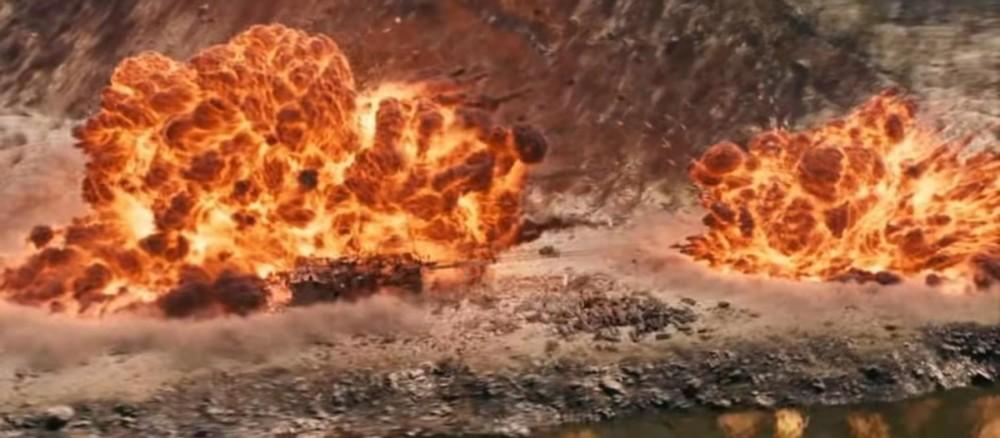fire: (3, 18, 534, 329), (672, 104, 1000, 272)
